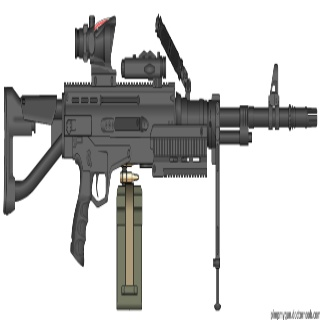rifle: (2, 15, 318, 268)
